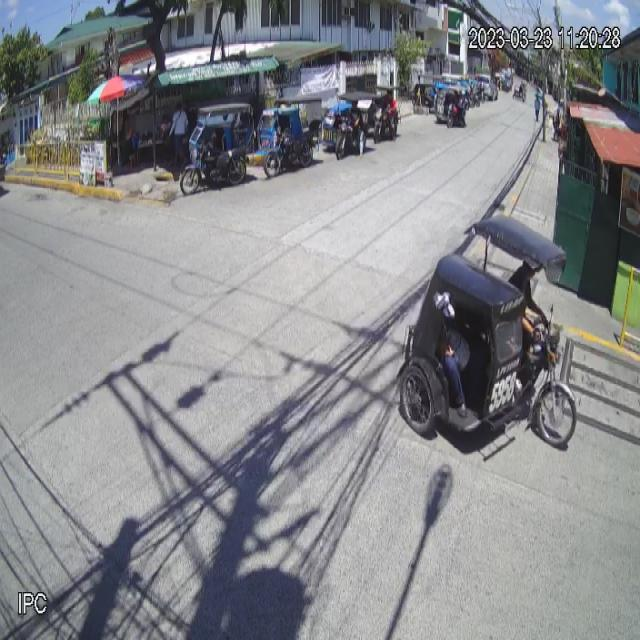Tricycle: (396, 213, 578, 456)
